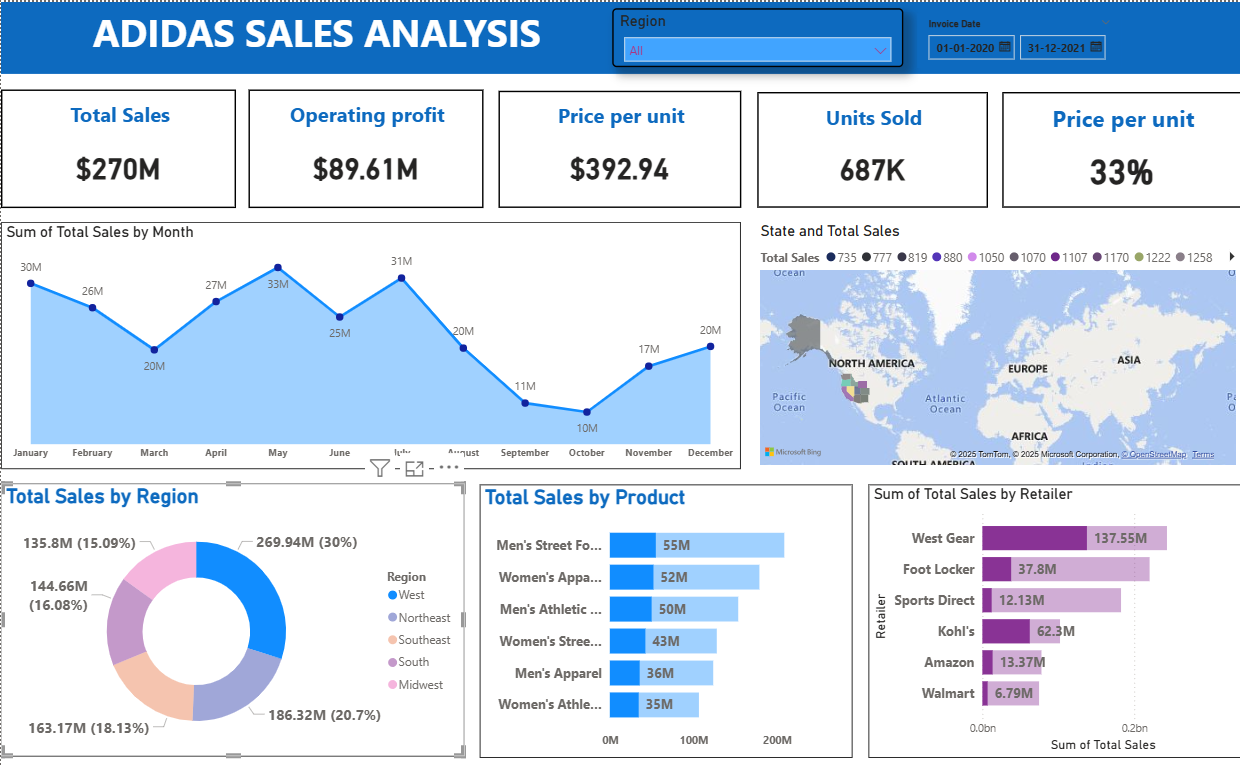

Layout of this report page (visuals, bound fields, positions):
{"tool":"powerbi","page":{"name":"Page 1","canvas":[1400,861],"ordinal":0},"visuals":[{"type":"shape","box":[0,0,1400.3,80.8],"z":0},{"type":"textbox","box":[0,0,711.7,66.7],"z":1000},{"type":"card","fields":{"Values":["Sum(Data Sales Adidas.Total Sales)"]},"box":[0,98.3,265,133.3],"z":2000},{"type":"card","fields":{"Values":["Sum(Data Sales Adidas.Operating Profit)"]},"box":[278.3,98.3,265,133.3],"z":3000},{"type":"card","fields":{"Values":["Sum(Data Sales Adidas.Units Sold)"]},"box":[851.7,101.7,260,130],"z":4000},{"type":"card","fields":{"Values":["Data Sales Adidas.INDI Price per Unit"]},"box":[560,100,273.3,131.7],"z":5000},{"type":"card","fields":{"Values":["Data Sales Adidas.perating Margin %"]},"box":[1128.3,101.7,270,130],"z":6000},{"type":"areaChart","fields":{"Category":["Data Sales Adidas.Invoice Date.Variation.Date Hierarchy.Month"],"Y":["Sum(Data Sales Adidas.Total Sales)"]},"box":[0,247.5,833.8,278.8],"z":7000},{"type":"donutChart","title":"Total Sales by Region","fields":{"Y":["Sum(Data Sales Adidas.Total Sales)"],"Category":["Data Sales Adidas.Region"]},"box":[0,542,522,308],"z":8000},{"type":"clusteredBarChart","title":"Total Sales by Product","fields":{"Category":["Data Sales Adidas.Product"],"Y":["Sum(Data Sales Adidas.Total Sales)"]},"box":[540,544,420,308],"z":9000},{"type":"clusteredBarChart","fields":{"Y":["Sum(Data Sales Adidas.Total Sales)"],"Category":["Data Sales Adidas.Retailer"]},"box":[978,544,422,308],"z":10000},{"type":"filledMap","fields":{"Category":["Data Sales Adidas.State"],"Series":["Data Sales Adidas.Total Sales"]},"box":[851.2,247.5,546.2,278.8],"z":11000},{"type":"slicer","title":"Region","fields":{"Values":["Data Sales Adidas.Region"]},"box":[688.3,6.7,328.3,66.7],"z":12000},{"type":"slicer","fields":{"Values":["Data Sales Adidas.Invoice Date"]},"box":[1032.9,12.9,230,61.4],"z":13000}]}

Visuals, with their boxes in screenshot pixels (x1, y1, x2, y2), scaled from the page's 1400x861 canvas onto the 1240x765 screenshot:
shape: Rect(0, 0, 1239, 72)
textbox: Rect(0, 0, 630, 59)
card - Sum(Data Sales Adidas.Total Sales): Rect(0, 87, 235, 206)
card - Sum(Data Sales Adidas.Operating Profit): Rect(246, 87, 481, 206)
card - Sum(Data Sales Adidas.Units Sold): Rect(754, 90, 985, 206)
card - Data Sales Adidas.INDI Price per Unit: Rect(496, 89, 738, 206)
card - Data Sales Adidas.perating Margin %: Rect(999, 90, 1238, 206)
areaChart - Data Sales Adidas.Invoice Date.Variation.Date Hierarchy.Month x Sum(Data Sales Adidas.Total Sales): Rect(0, 220, 739, 468)
"Total Sales by Region" donutChart: Rect(0, 482, 462, 755)
"Total Sales by Product" clusteredBarChart: Rect(478, 483, 850, 757)
clusteredBarChart - Sum(Data Sales Adidas.Total Sales) x Data Sales Adidas.Retailer: Rect(866, 483, 1239, 757)
filledMap - Data Sales Adidas.State x Data Sales Adidas.Total Sales: Rect(754, 220, 1238, 468)
"Region" slicer: Rect(610, 6, 900, 65)
slicer - Data Sales Adidas.Invoice Date: Rect(915, 11, 1119, 66)
